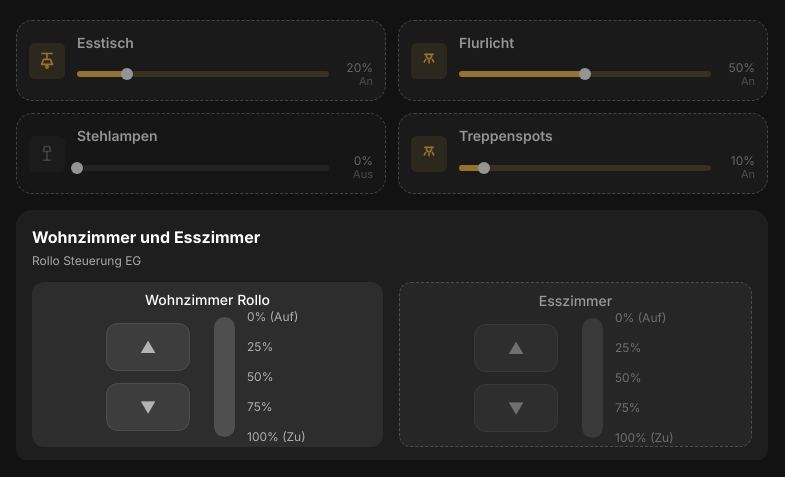
Scenario: HomeDashboardView touch hold (ticket 9.6 W2-3a) › placeholder cover column hold also shows the W2-2 toast
Press the mouse on the 2nd text "▲" at x=516, y=348, box [474, 324, 558, 372]
Wait 400 ms
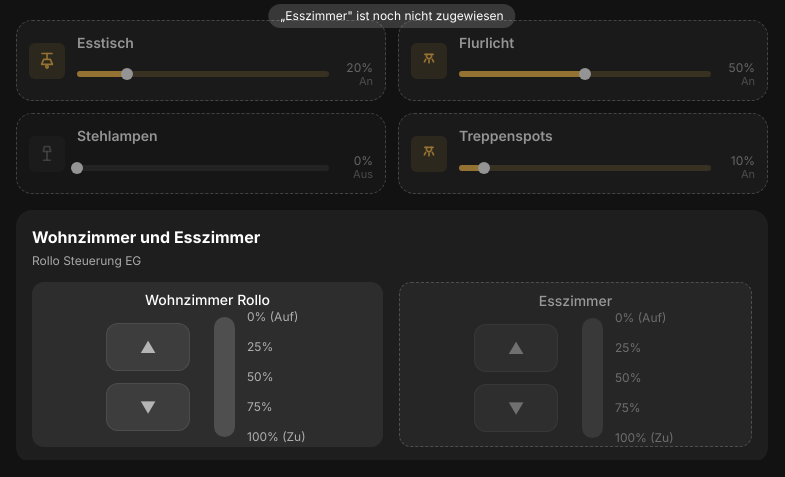
expect the message "„Esszimmer\" ist noch nicht zugewiesen" is shown: met, box [268, 4, 516, 28]
expect the message "„Esszimmer\" ist noch nicht zugewiesen" reads "„Esszimmer\" ist noch nicht zugewiesen": met, box [280, 8, 504, 23]
